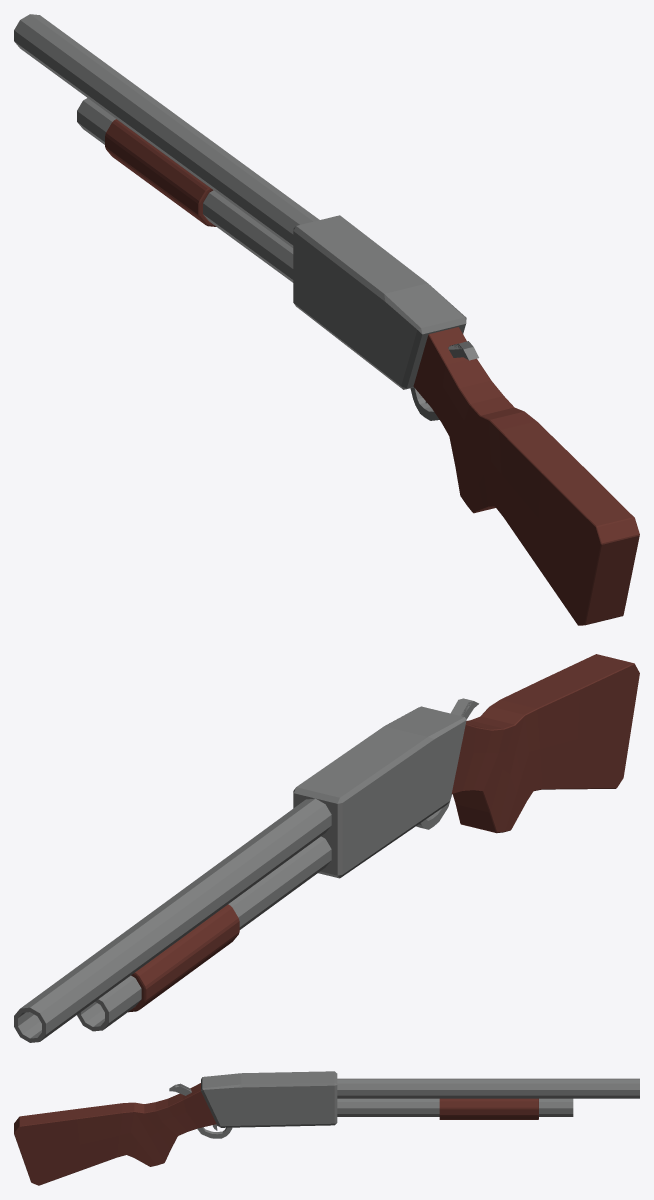
File: shotgun.fbx
The picture shows the model from 3 angles, top to bottom: view 1: azimuth 30°, elevation 25°; view 2: azimuth 150°, elevation 25°; view 3: azimuth 270°, elevation 25°; orthographic projection. The views are drawn at different scales.
Visible parts, largest first — view 1: Handle, Base, Top Gun, Bottom Gun.001, Bottom Gun; view 2: Handle, Base, Top Gun, Bottom Gun, Bottom Gun.001; view 3: Handle, Base, Top Gun, Bottom Gun, Bottom Gun.001, Shooty thing.004.
Boxes of the visible parts, bbox=[...] form: Handle: bbox=[413, 327, 639, 625]; Base: bbox=[293, 215, 466, 389]; Top Gun: bbox=[14, 14, 319, 247]; Bottom Gun.001: bbox=[105, 119, 216, 226]; Bottom Gun: bbox=[77, 98, 293, 282]; Handle: bbox=[451, 654, 639, 833]; Base: bbox=[293, 706, 466, 878]; Top Gun: bbox=[14, 798, 331, 1042]; Bottom Gun: bbox=[77, 836, 331, 1031]; Bottom Gun.001: bbox=[128, 904, 239, 1012]; Handle: bbox=[14, 1083, 216, 1185]; Base: bbox=[201, 1071, 337, 1127]; Top Gun: bbox=[337, 1078, 639, 1098]; Bottom Gun: bbox=[337, 1098, 573, 1116]; Bottom Gun.001: bbox=[439, 1098, 538, 1119]; Shooty thing.004: bbox=[197, 1124, 232, 1138].
Size of the model in its own units: 5 by 19.03 by 104.
